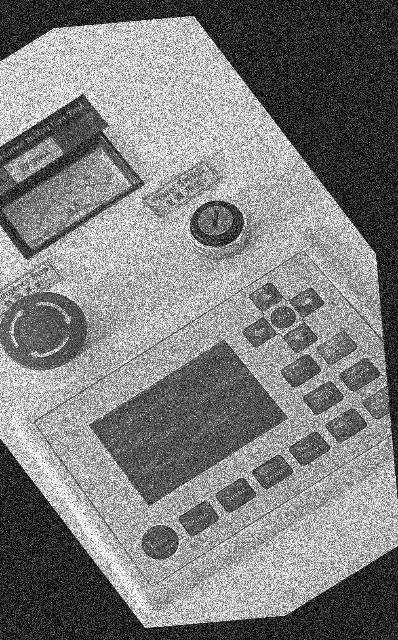Amp_Meter: (3, 146, 137, 249)
Display: (91, 341, 286, 505)
Down_button: (284, 323, 317, 352)
Emergency_Stop: (0, 293, 87, 370)
Enter_button: (318, 332, 356, 364)
Esc_button: (282, 354, 320, 387)
File_button: (326, 409, 366, 442)
Frame_button: (340, 358, 380, 391)
Left_button: (243, 318, 275, 346)
Max-Power_button: (289, 432, 330, 465)
Min-Power_button: (253, 455, 293, 489)
Origin_button: (304, 382, 343, 414)
Power_switch: (188, 200, 249, 259)
Pulse_button: (180, 502, 219, 535)
Reset_button: (142, 526, 179, 559)
Right_button: (290, 288, 324, 317)
Speed_button: (216, 479, 256, 512)
Start-Pause_button: (363, 386, 390, 418)
Up_button: (250, 283, 283, 312)
Z_U_button: (271, 306, 296, 328)
